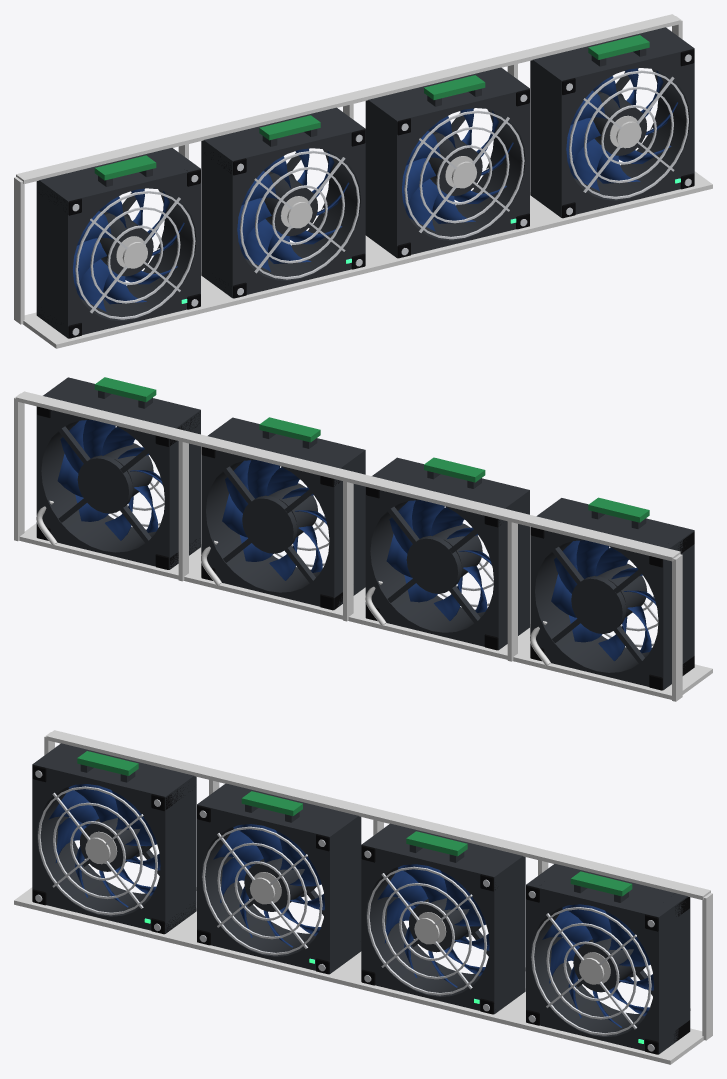
Rendered from hwm_cool_dual_tower.glb.
The picture shows the model from 3 angles, top to bottom: view 1: azimuth 30°, elevation 25°; view 2: azimuth 150°, elevation 25°; view 3: azimuth 330°, elevation 25°; orthographic projection.
Parts seen in each view (by area): view 1: Body, Rotor_Z_0, Rotor_Z_3, Rotor_Z_1, Rotor_Z_2; view 2: Body, Rotor_Z_0, Rotor_Z_2, Rotor_Z_3, Rotor_Z_1; view 3: Body, Rotor_Z_3, Rotor_Z_1, Rotor_Z_0, Rotor_Z_2.
Boxes of the visible parts, left/top/right/bottom form: Body: left=14, top=14, right=712, bottom=348; Rotor_Z_0: left=72, top=188, right=184, bottom=311; Rotor_Z_3: left=566, top=68, right=677, bottom=191; Rotor_Z_1: left=237, top=148, right=349, bottom=271; Rotor_Z_2: left=402, top=108, right=513, bottom=231; Body: left=14, top=377, right=712, bottom=701; Rotor_Z_0: left=551, top=540, right=656, bottom=661; Rotor_Z_2: left=222, top=460, right=327, bottom=580; Rotor_Z_3: left=57, top=419, right=162, bottom=540; Rotor_Z_1: left=386, top=500, right=491, bottom=620; Body: left=14, top=730, right=712, bottom=1064; Rotor_Z_3: left=542, top=904, right=654, bottom=1027; Rotor_Z_1: left=213, top=824, right=324, bottom=947; Rotor_Z_0: left=48, top=784, right=160, bottom=907; Rotor_Z_2: left=377, top=864, right=489, bottom=987.
Bounding box in the file's own units: 0.4628 × 0.1033 × 0.049.
